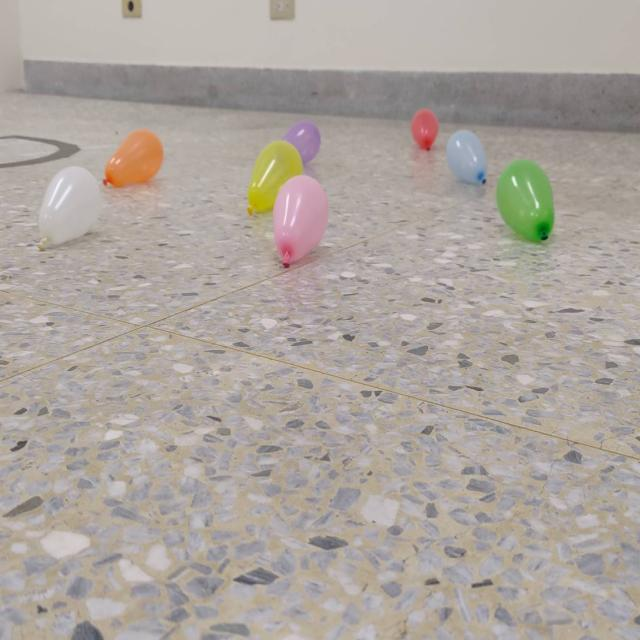other: (34, 168, 102, 252), (272, 175, 328, 268), (497, 159, 554, 242), (247, 140, 302, 218), (102, 128, 163, 186), (448, 129, 487, 186), (285, 122, 320, 164)
